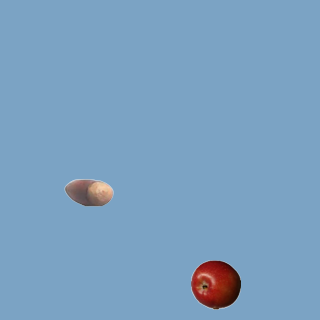Apple Braeburn: (190, 259, 240, 309)
Hazelnut: (63, 167, 113, 217)
